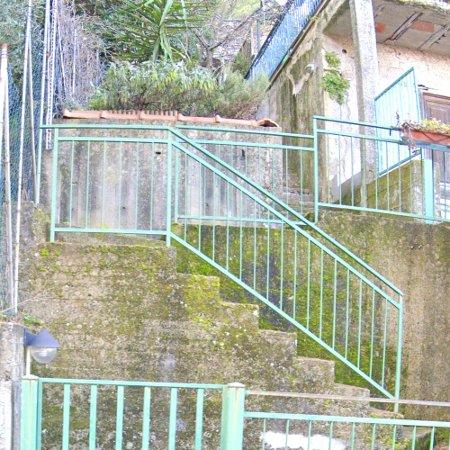stairs: (23, 243, 365, 396)
